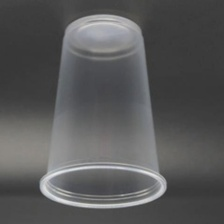glass: (34, 6, 173, 214)
